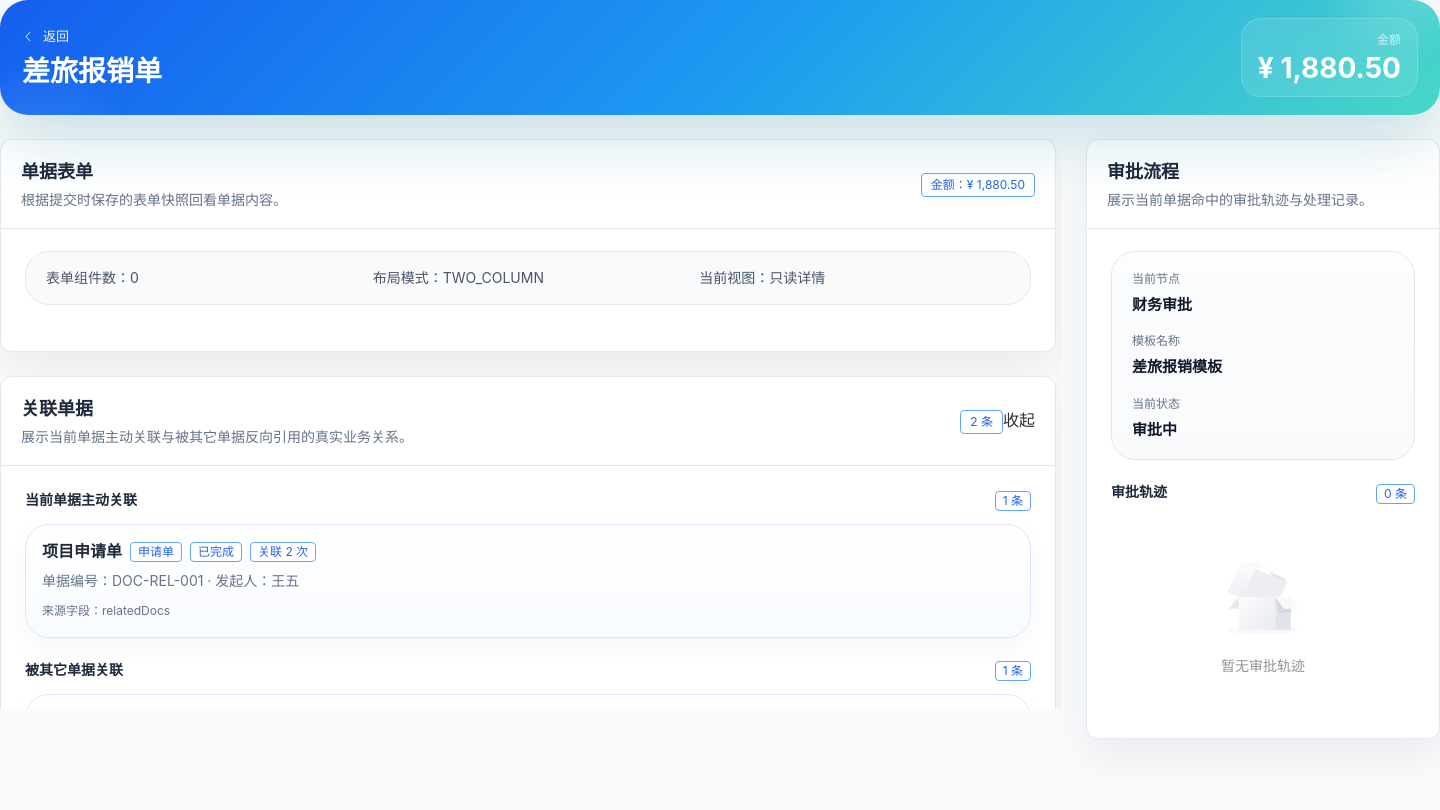
ExpenseDocumentDetailView › renders related and writeoff truth sections and opens bound documents
Expected: the element with test id "related-bindings-card" shows "关联单据", [21,398,93,419]
Expected: the element with test id "related-bindings-card" shows "当前单据主动关联", [25,491,137,508]
Click the button with test id "related-binding-item" that starts with "项目申请单".
click(82, 551)  # box [25,524,1031,638]
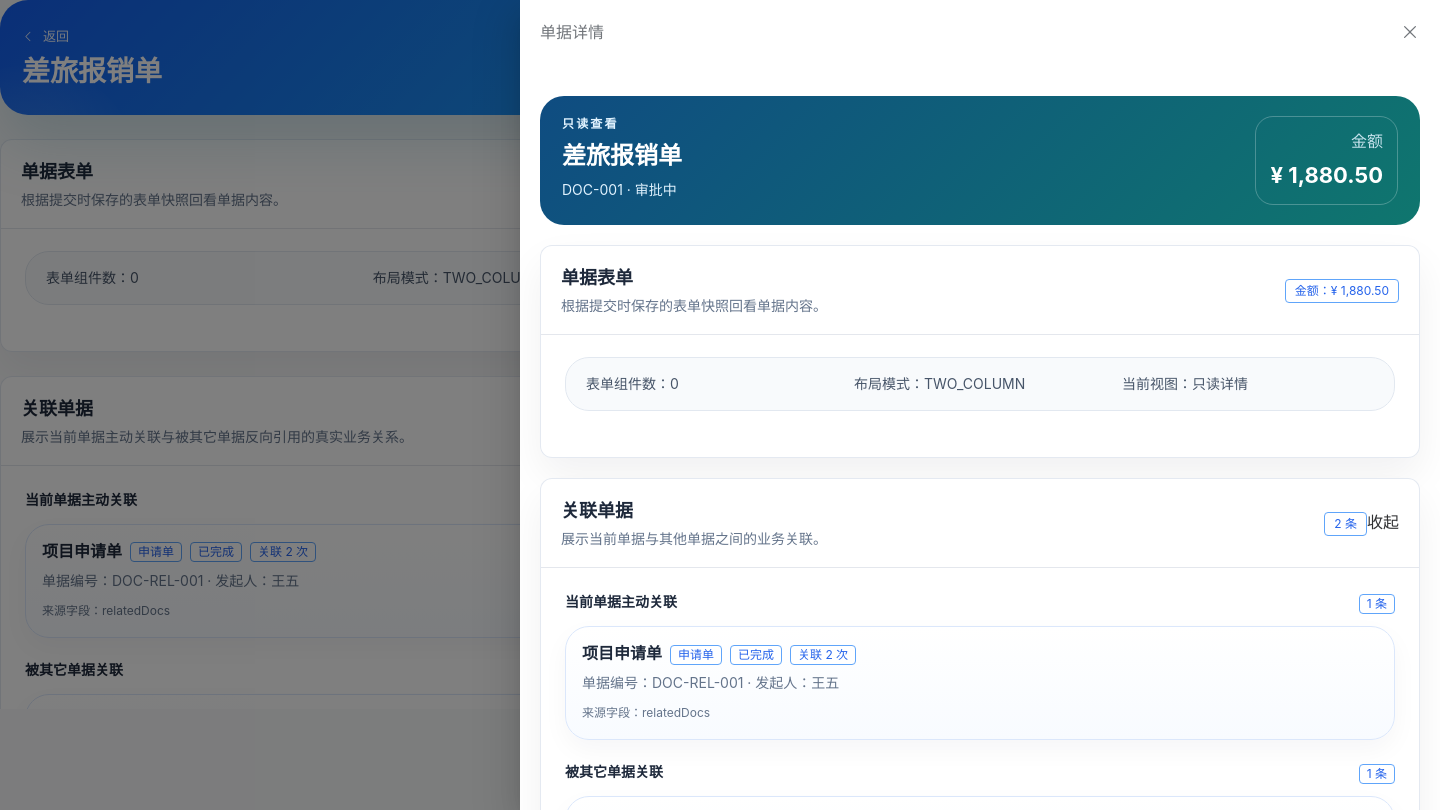
Result: the dialog with test id "expense-document-readonly-drawer" is shown
